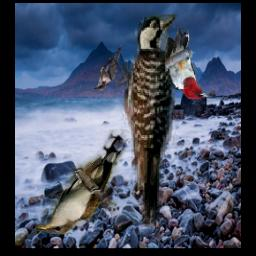Cuckoo: (35, 130, 129, 235), (93, 45, 121, 91)
Woodpecker: (114, 14, 178, 237), (165, 26, 213, 99)
